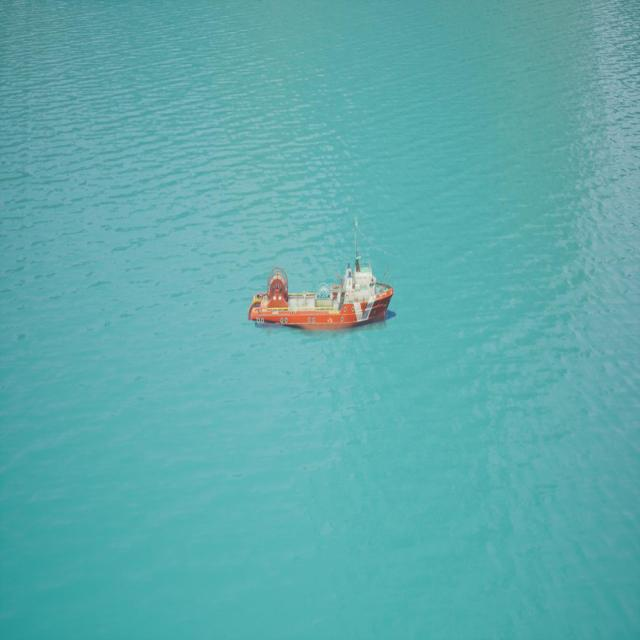tug boat: (248, 221, 398, 337)
